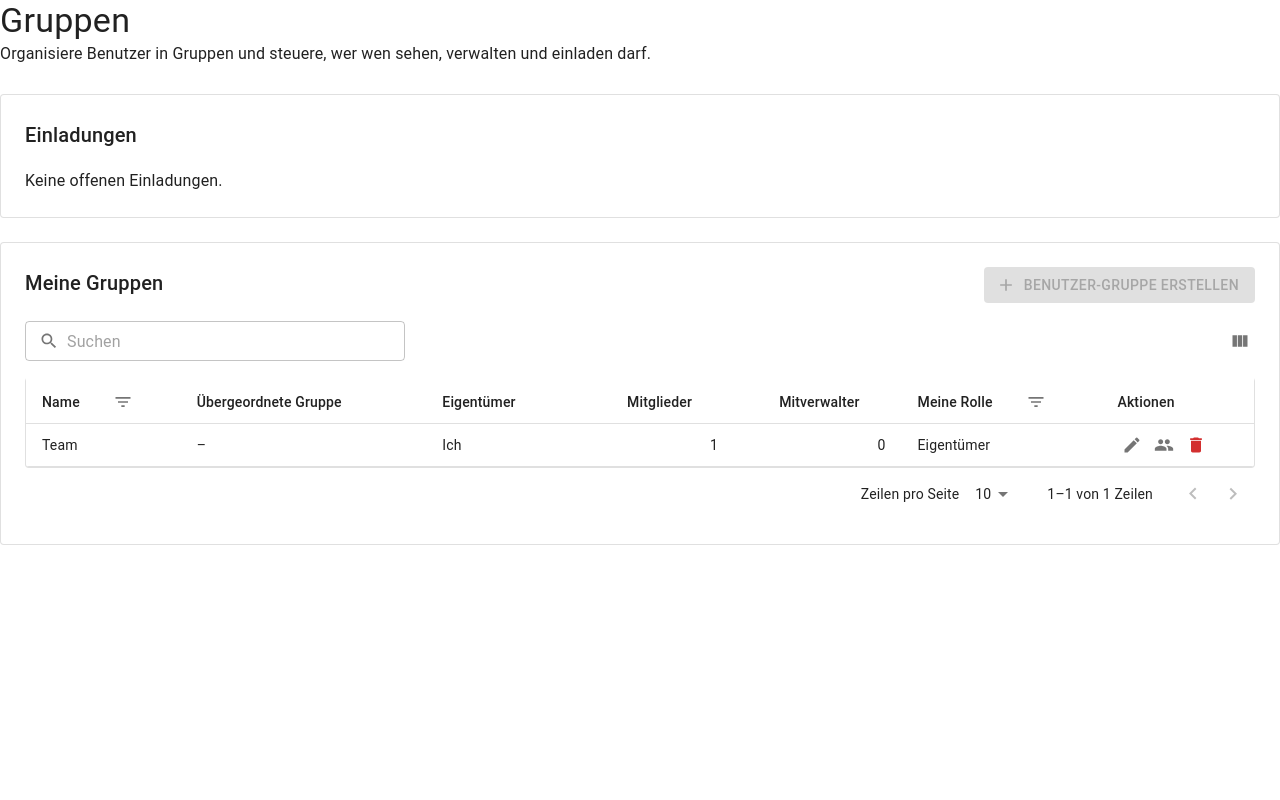
warns with the coupled project names when deleting a group that has coupled projects
This screenshot has width=1280, height=800.
Step 1. Click the button named "Löschen" → x=1196, y=446, box [1181,430,1211,460]
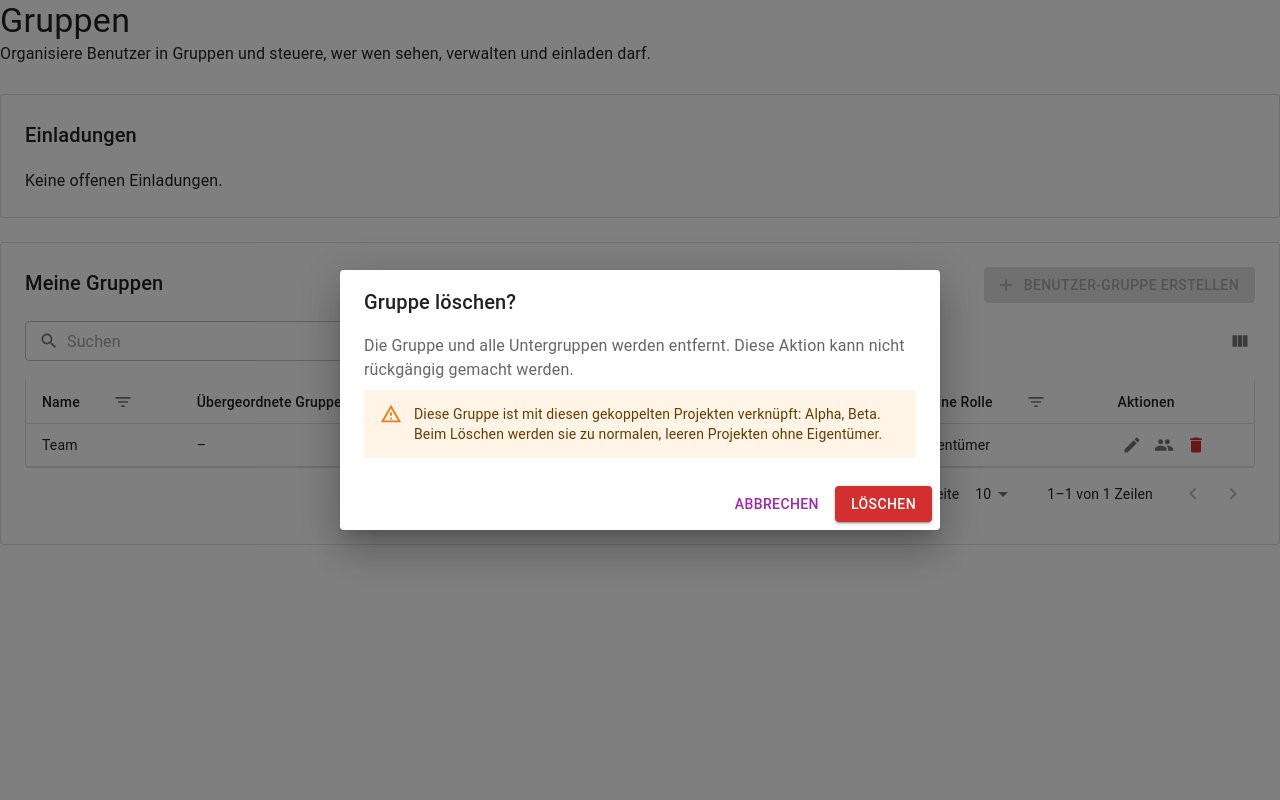
Expected: the text "Beta" is shown, [414,406,882,442]
